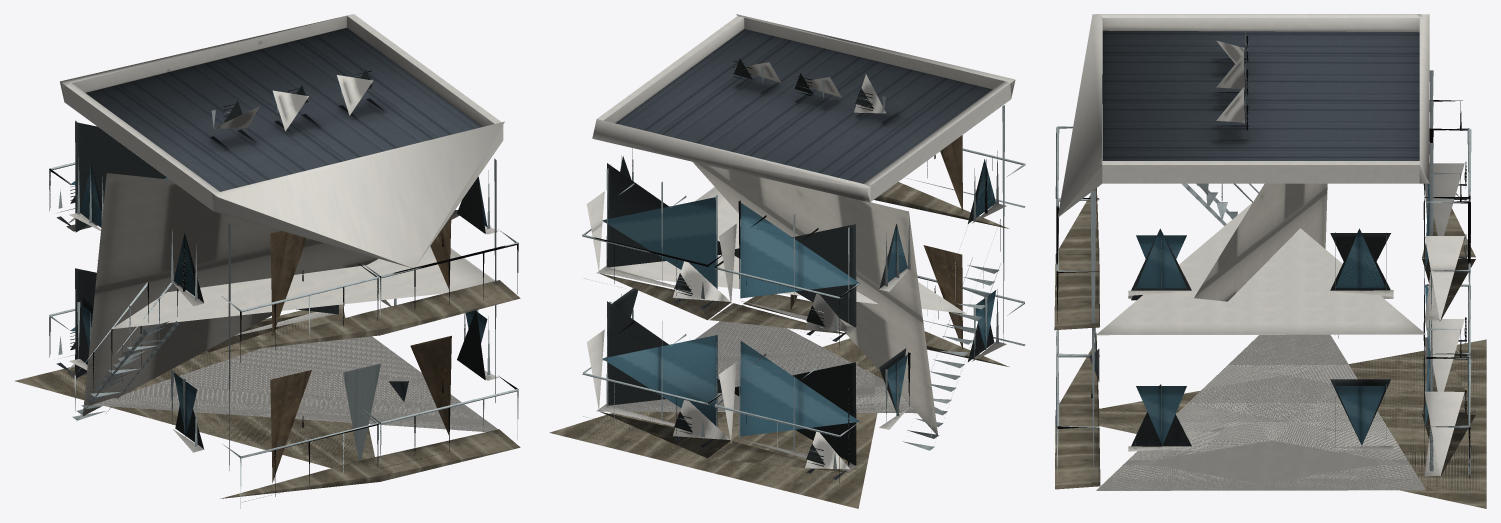
File: residential_005.lod2.obj
3 views of the same model, side by side, from view 1: azimuth 30°, elevation 25°; view 2: azimuth 150°, elevation 25°; view 3: azimuth 270°, elevation 25° (orthographic). The views are drawn at different scales.
Parts seen in each view (by area): view 1: residential_005; view 2: residential_005; view 3: residential_005.
Boxes of the visible parts, box(x1,y1,x2,y2) form: residential_005: box(15, 14, 520, 508); residential_005: box(549, 14, 1025, 508); residential_005: box(1054, 14, 1486, 508).
Bounding box in the file's own units: 6.9 × 6.63 × 7.2.
Materials: 1 (1 with a texture image).
